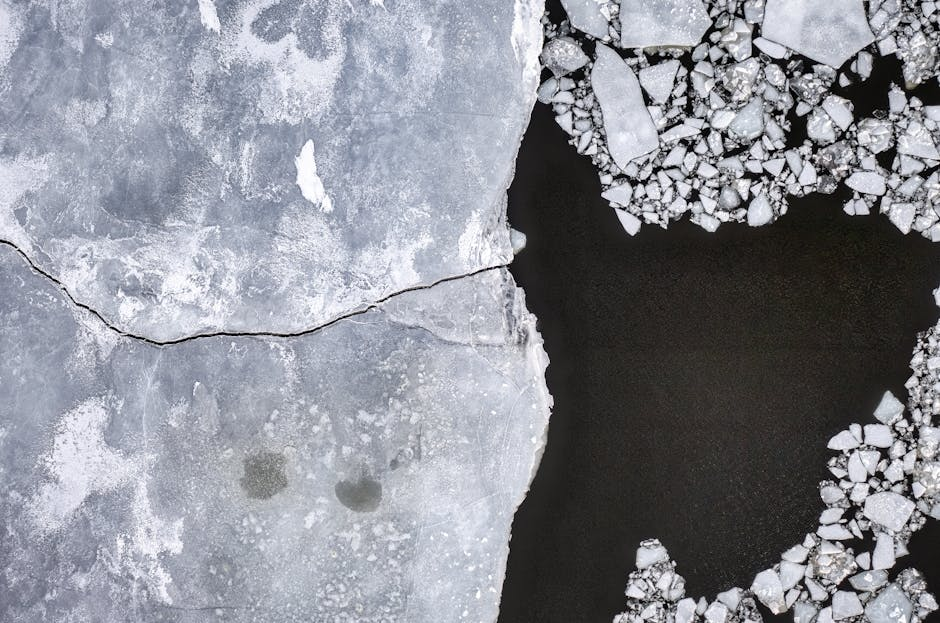细微裂纹: (14, 257, 515, 372)
